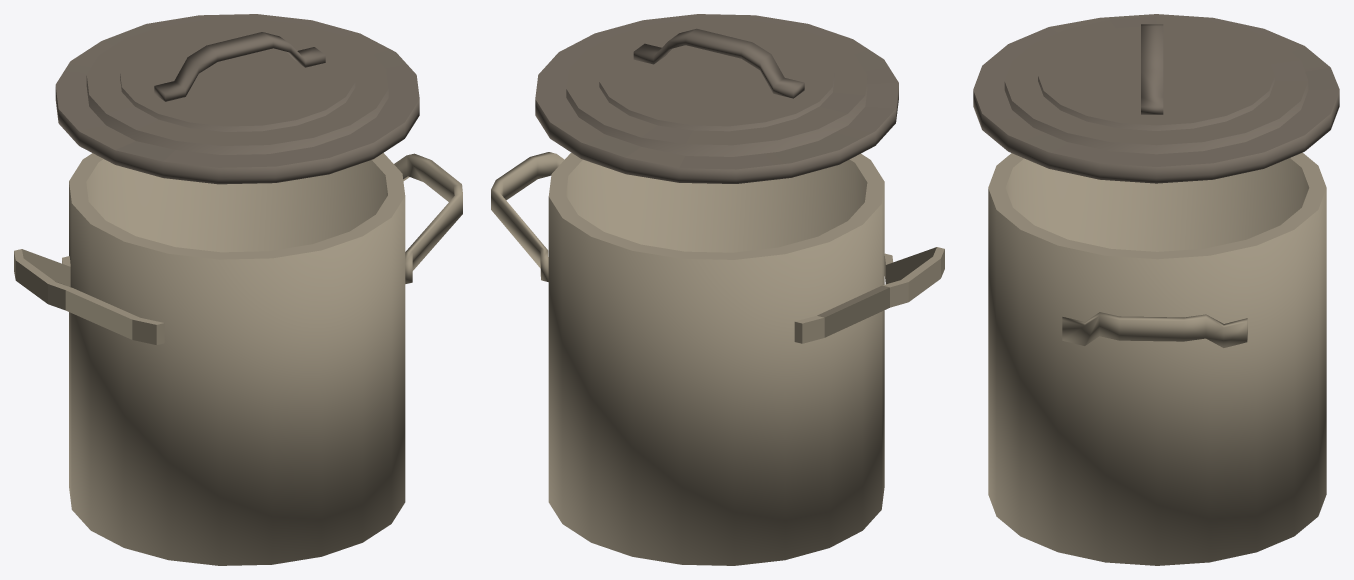
File: potNew.fbx
The picture shows the model from 3 angles, left to right: view 1: azimuth 30°, elevation 25°; view 2: azimuth 150°, elevation 25°; view 3: azimuth 270°, elevation 25°; orthographic projection.
Visible parts, largest first — view 1: Pot.001, Lid; view 2: Pot.001, Lid; view 3: Pot.001, Lid.
Boxes of the visible parts, left/top/right/bottom form: Pot.001: left=14, top=153, right=462, bottom=565; Lid: left=55, top=14, right=419, bottom=184; Pot.001: left=491, top=152, right=944, bottom=565; Lid: left=535, top=14, right=898, bottom=183; Pot.001: left=988, top=152, right=1326, bottom=565; Lid: left=973, top=14, right=1339, bottom=183.
Bounding box in the file's own units: 0.4345 × 0.3323 × 0.4546.
